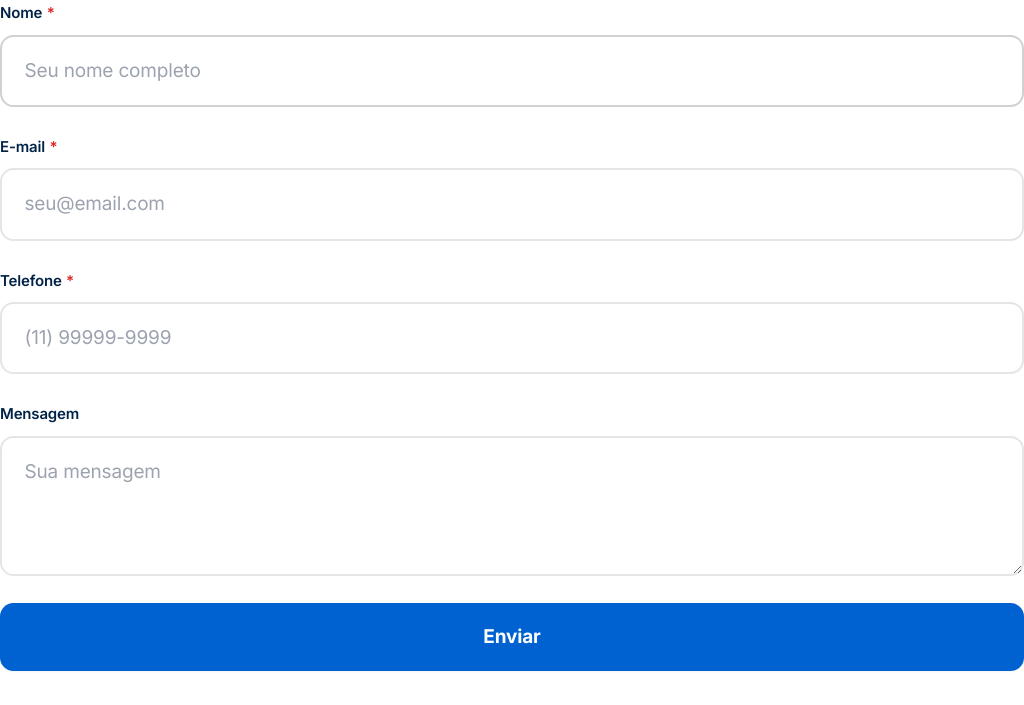
Test case: ContactForm › shows all validation errors on submit with empty required fields
Click the button "Enviar": (512, 637) x1=0 y1=603 x2=1023 y2=671
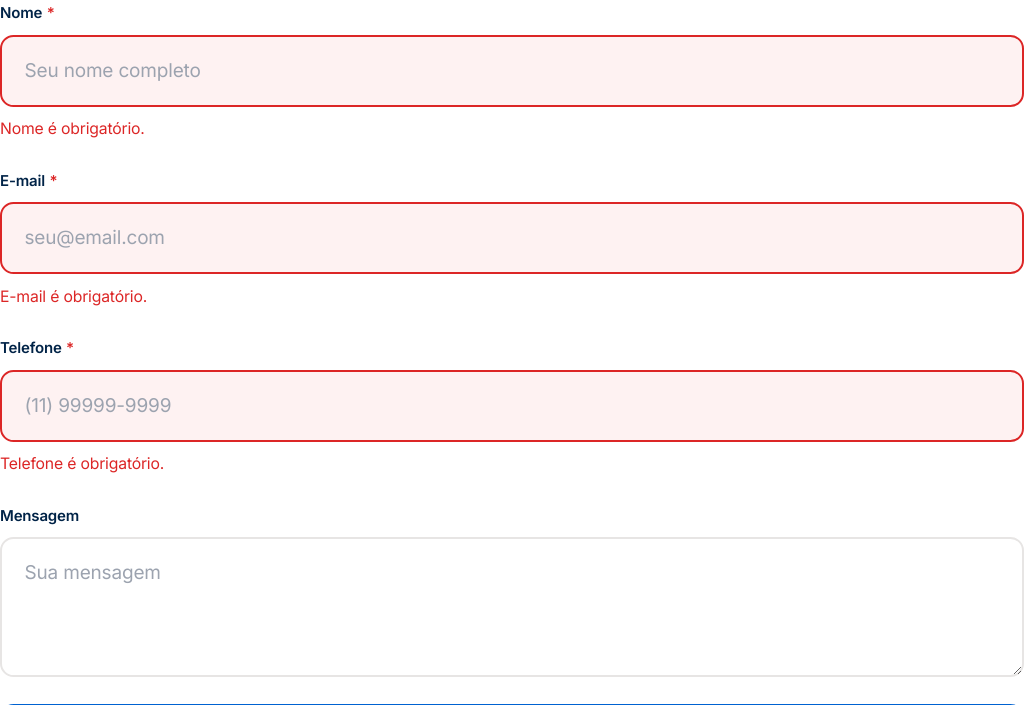
Expected: the text "Nome é obrigatório." is shown, x1=0 y1=119 x2=145 y2=138
Expected: the text "E-mail é obrigatório." is shown, x1=0 y1=287 x2=147 y2=306
Expected: the text "Telefone é obrigatório." is shown, x1=0 y1=454 x2=164 y2=473
